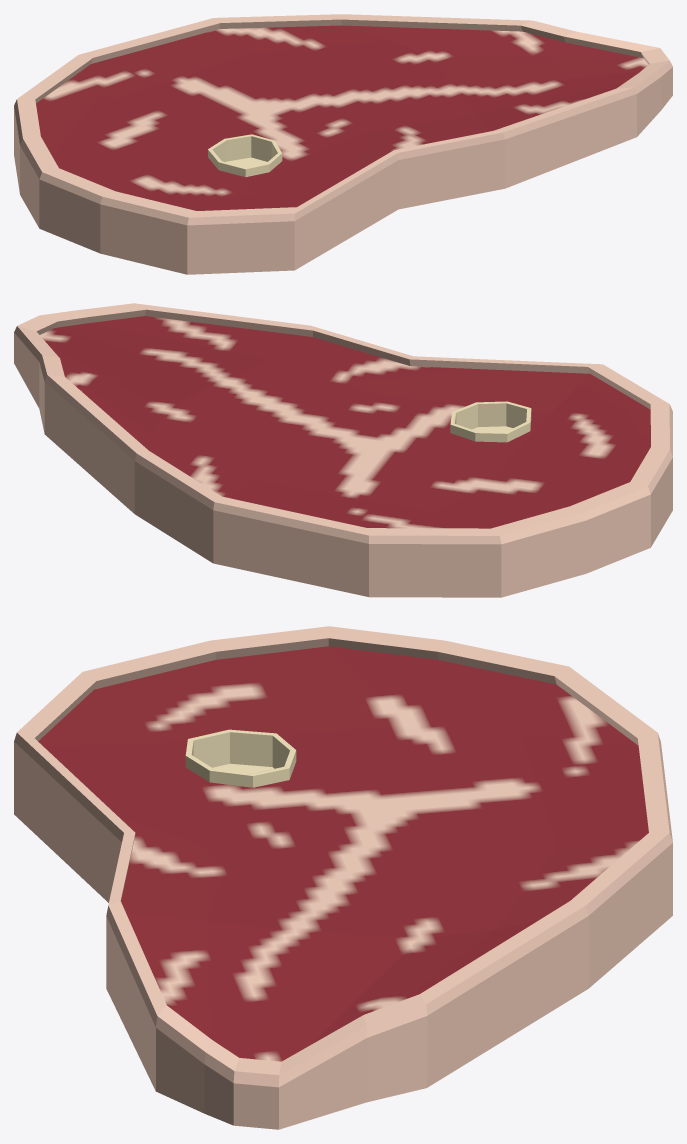
Rendered from SteakFix.fbx.
3 views of the same model, one above another, from view 1: azimuth 30°, elevation 25°; view 2: azimuth 150°, elevation 25°; view 3: azimuth 270°, elevation 25° (orthographic). The views are drawn at different scales.
Visible parts, largest first — view 1: Steak; view 2: Steak; view 3: Steak.
Part boxes in pixels (left/top/right/bottom): Steak: left=14, top=14, right=672, bottom=274; Steak: left=14, top=303, right=672, bottom=597; Steak: left=14, top=626, right=672, bottom=1129.
Bounding box in the file's own units: 47.3 × 4.17 × 30.08.
